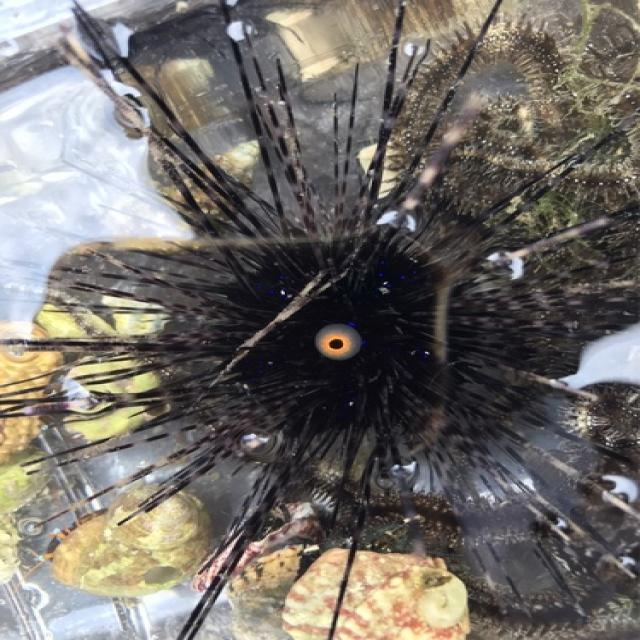Urchin: (14, 5, 638, 640)
